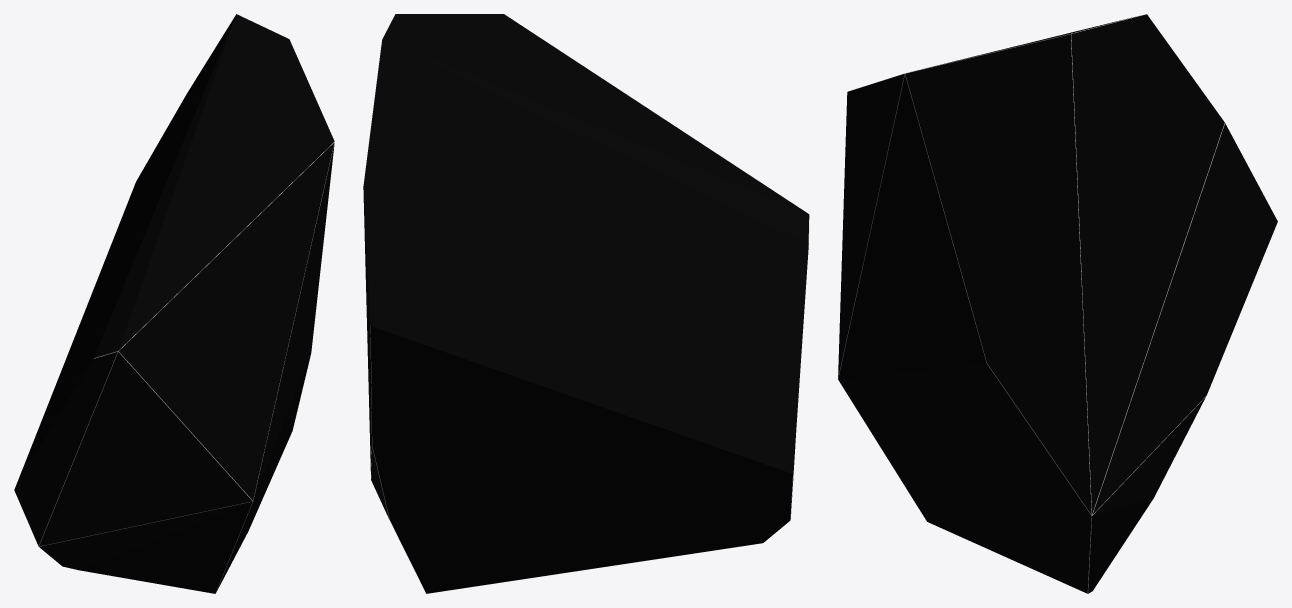
Rendered from Project03.glb.
The picture shows the model from 3 angles, left to right: view 1: azimuth 30°, elevation 25°; view 2: azimuth 150°, elevation 25°; view 3: azimuth 270°, elevation 25°; orthographic projection. The views are drawn at different scales.
Parts seen in each view (by area): view 1: project03; view 2: project03; view 3: project03.
Part boxes in pixels (bbox=[...]): project03: bbox=[14, 14, 334, 593]; project03: bbox=[363, 14, 809, 593]; project03: bbox=[838, 14, 1277, 593].
Size of the model in its own units: 1.37 by 2.02 by 1.37.
Materials: 2 (1 with a texture image).
